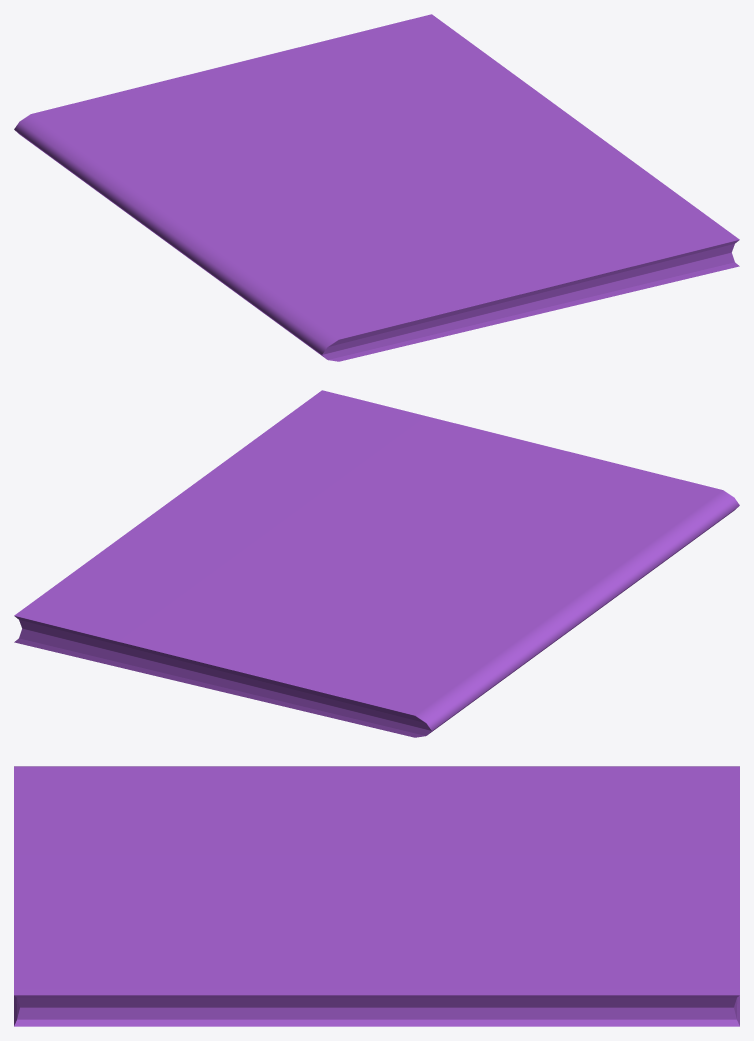
The model's file is Cuaderno 1.fbx.
3 renders of one model, top to bottom at view 1: azimuth 30°, elevation 25°; view 2: azimuth 150°, elevation 25°; view 3: azimuth 270°, elevation 25°, orthographic. The views are drawn at different scales.
Parts seen in each view (by area): view 1: Cuaderno_1; view 2: Cuaderno_1; view 3: Cuaderno_1.
Part boxes in pixels (x1,y1,x2,y2): Cuaderno_1: (14,14,739,361); Cuaderno_1: (14,390,739,737); Cuaderno_1: (14,766,739,1026).
Bounding box in the file's own units: 0.1807 × 0.011 × 0.2308.
